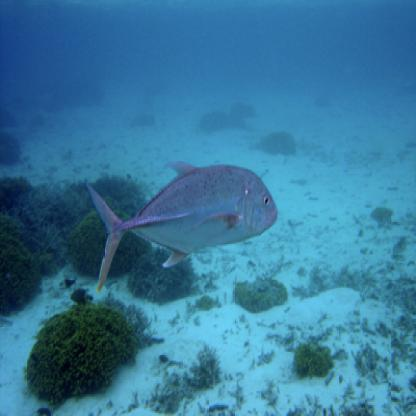Bio: (87, 150, 285, 297)
